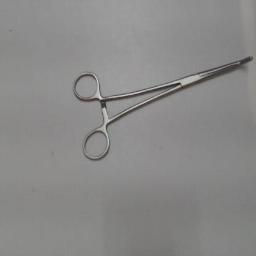Lahey Forceps: (70, 52, 254, 164)
